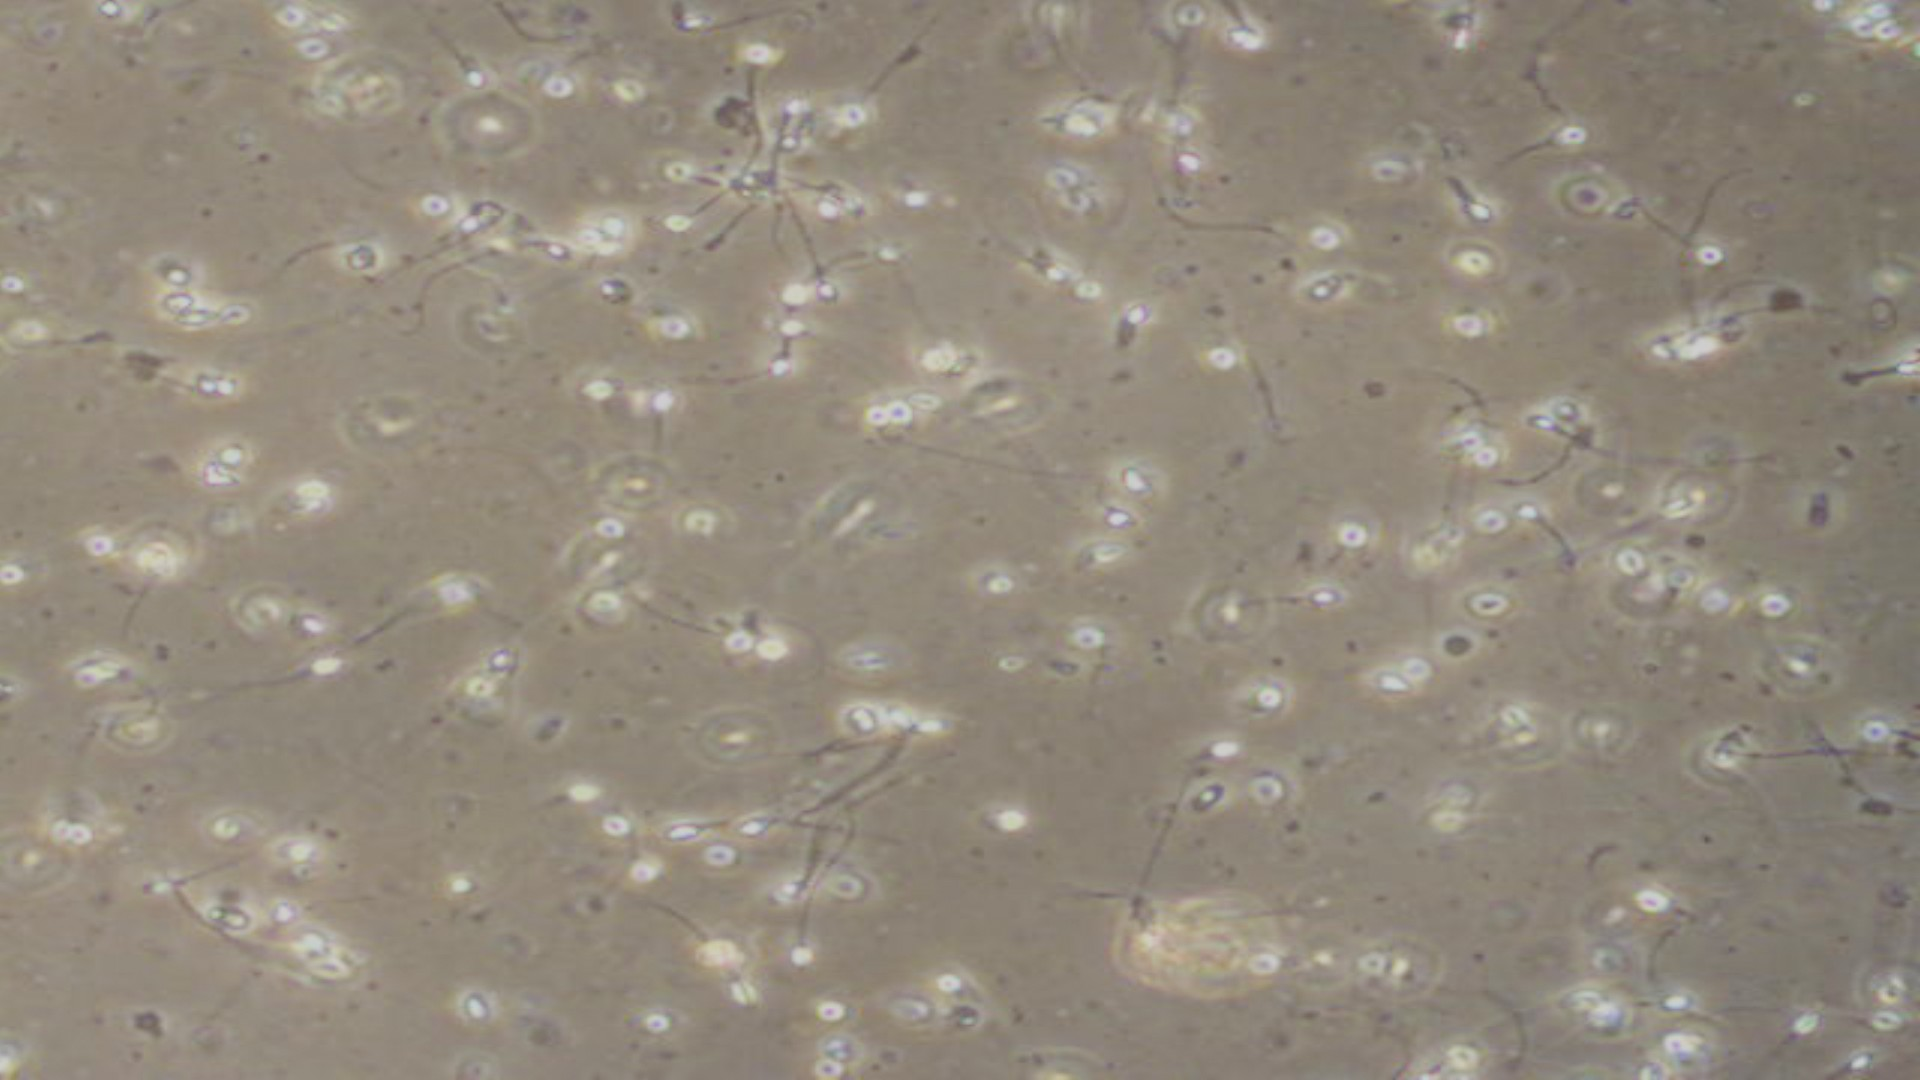sperm: (1518, 406, 1684, 487), (651, 909, 767, 1011), (764, 186, 833, 313), (404, 3, 497, 96), (785, 843, 849, 975), (1739, 993, 1832, 1080), (1514, 496, 1600, 582), (644, 375, 715, 475), (1495, 121, 1604, 182), (749, 799, 866, 848), (233, 651, 339, 702), (1437, 142, 1499, 227), (1625, 214, 1725, 262), (771, 843, 839, 910), (1170, 735, 1246, 793), (663, 800, 736, 851), (138, 856, 222, 898), (1209, 1, 1275, 54), (1106, 295, 1154, 360), (489, 239, 578, 273), (1836, 356, 1920, 386), (753, 345, 803, 396)
